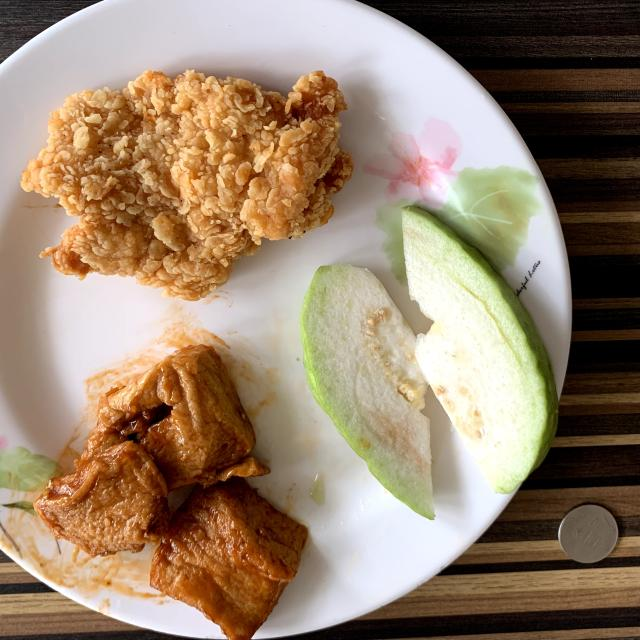coin: (559, 505, 619, 564)
creamy tofu: (35, 345, 308, 640)
fried chicken cutlet: (21, 70, 352, 300)
guava -sliced-: (301, 206, 558, 519)
